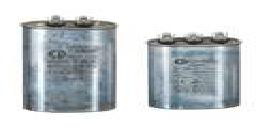Electrolytic Capacitor: (19, 9, 122, 127), (145, 27, 239, 122)
